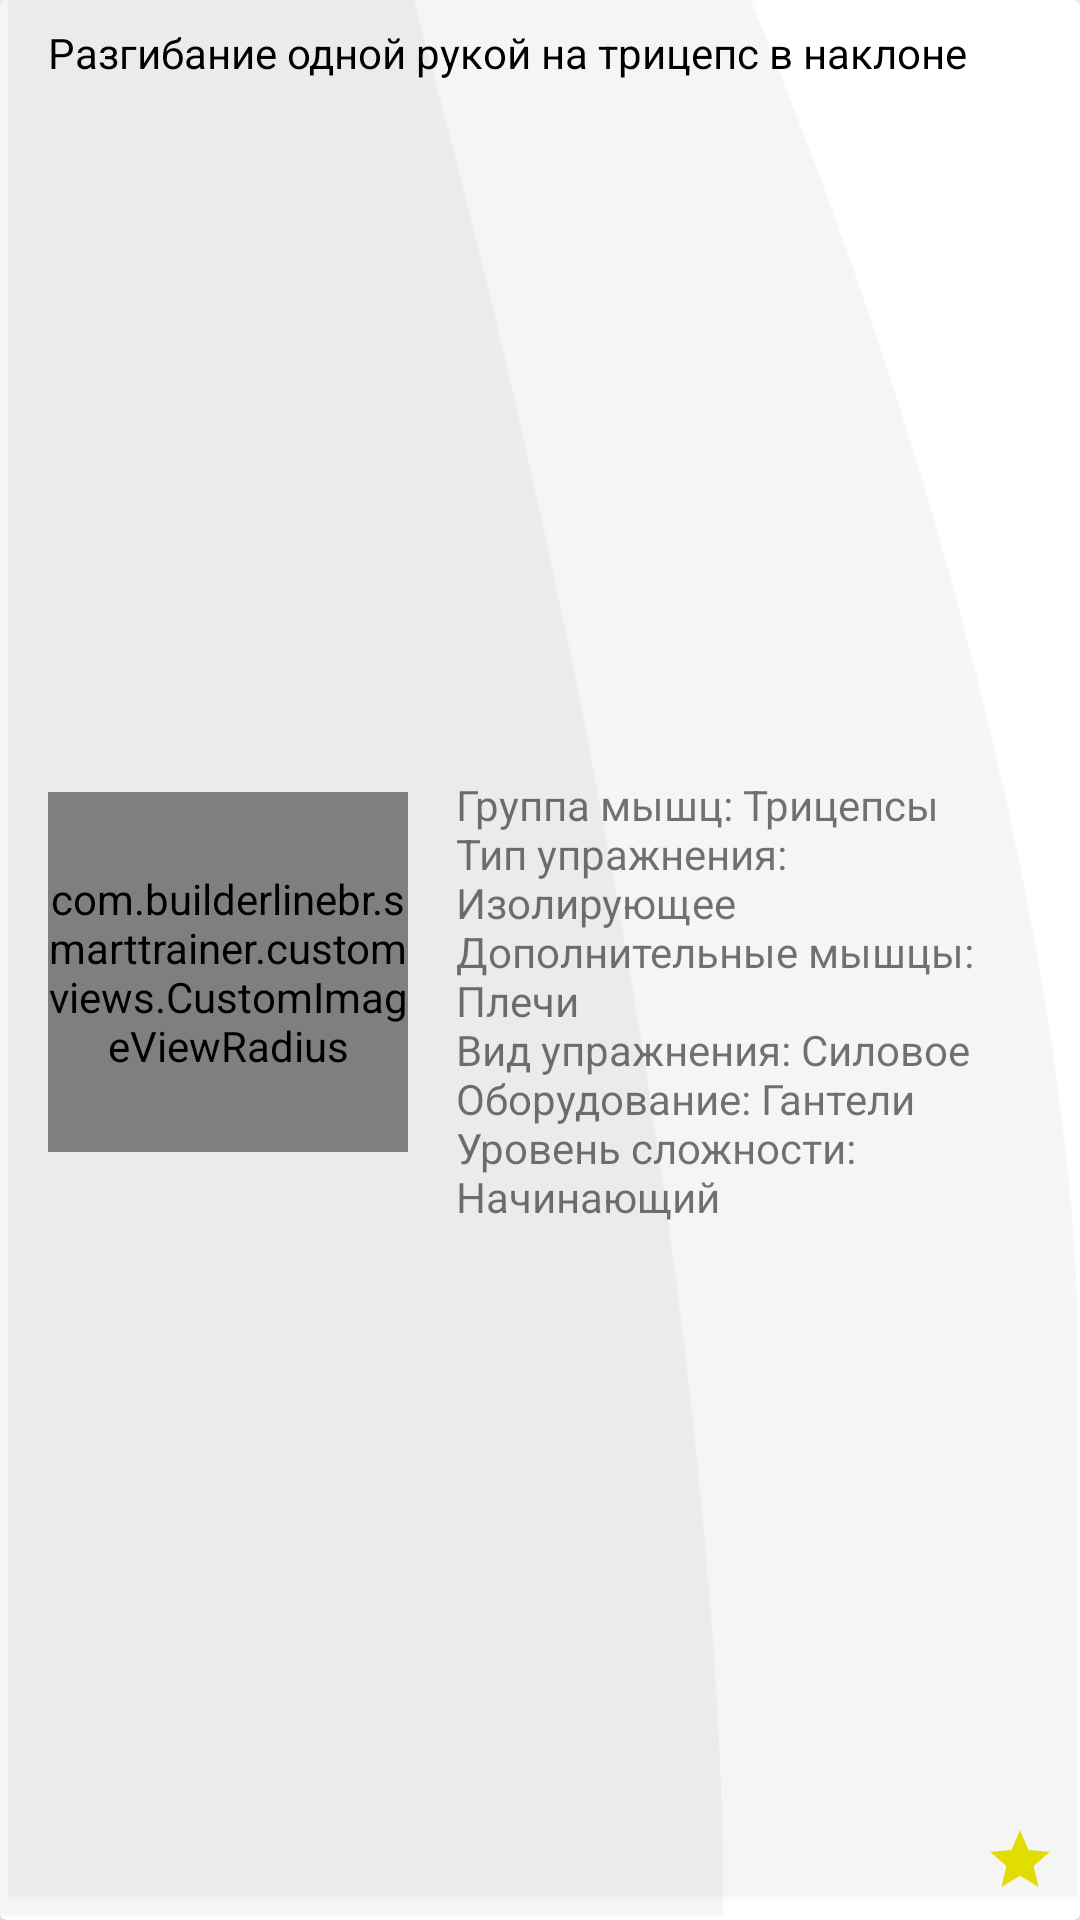

Icon click points for this 1080x1920 phone screenshot, format (x,y):
star: (1020,1858)
